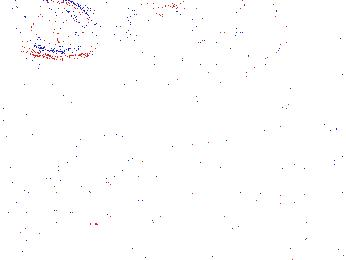moon jellyfish: (171, 1, 285, 78), (70, 1, 136, 83), (19, 1, 100, 59), (128, 5, 197, 61), (1, 1, 30, 76)
